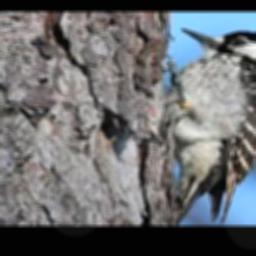Woodpecker: (132, 28, 256, 225)
